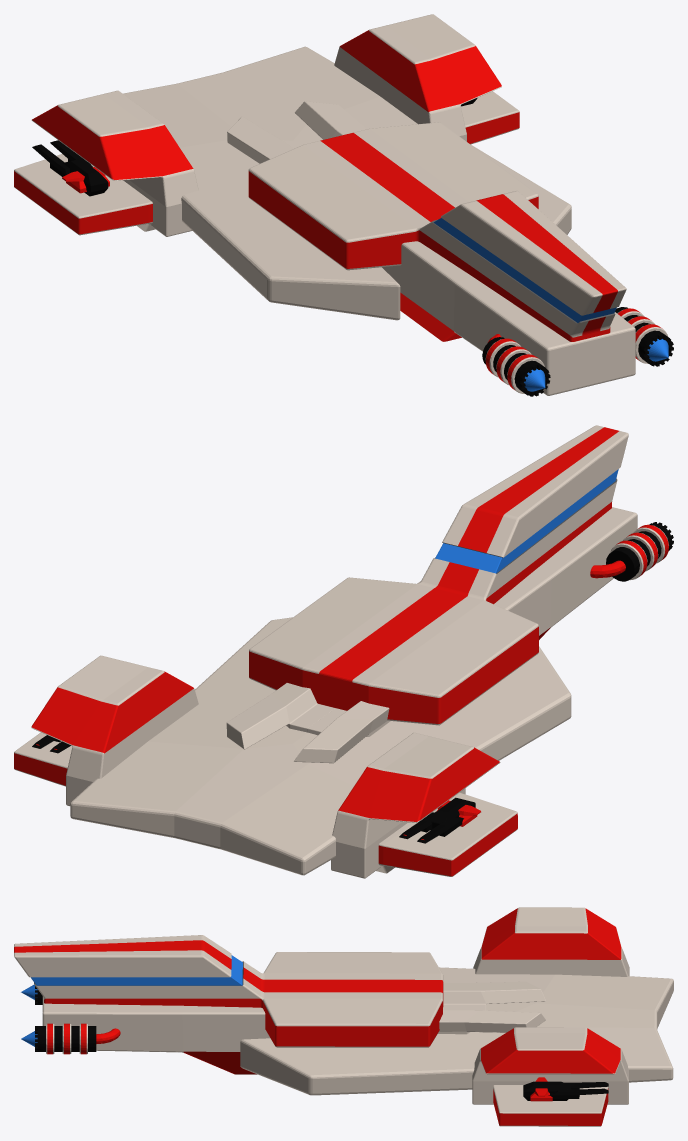
File: Spaceship_07_Merged.fbx
3 views of the same model, one above another, from view 1: azimuth 30°, elevation 25°; view 2: azimuth 150°, elevation 25°; view 3: azimuth 270°, elevation 25° (orthographic). The views are drawn at different scales.
Parts seen in each view (by area): view 1: Spaceship_07_Merged; view 2: Spaceship_07_Merged; view 3: Spaceship_07_Merged.
Boxes of the visible parts, left/top/right/bottom form: Spaceship_07_Merged: left=14, top=14, right=673, bottom=396; Spaceship_07_Merged: left=14, top=425, right=673, bottom=878; Spaceship_07_Merged: left=14, top=907, right=673, bottom=1126.
Bounding box in the file's own units: 816 × 282 × 1360.
